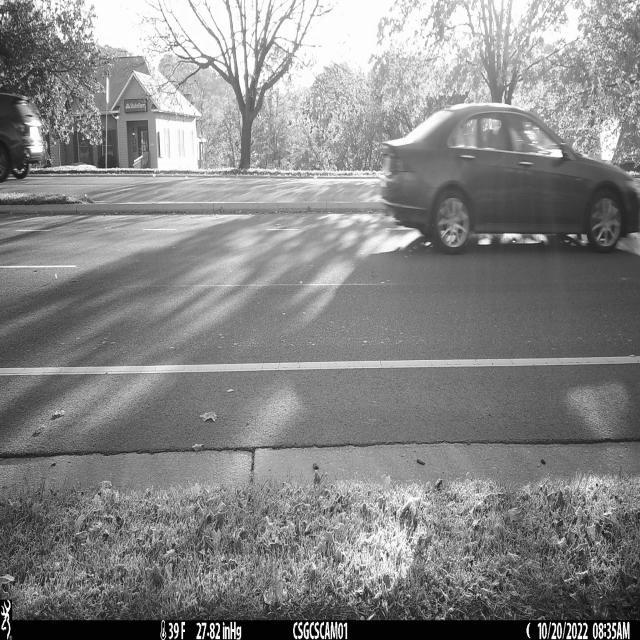Sedan: (378, 103, 640, 252)
